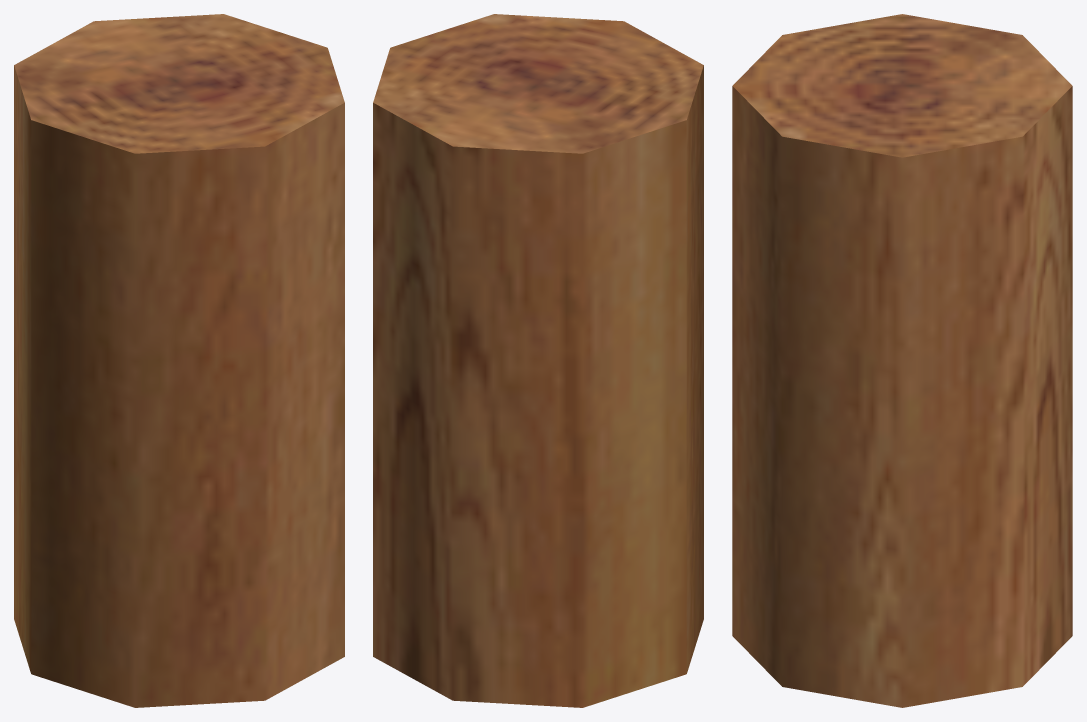
3 views of the same model, side by side, from view 1: azimuth 30°, elevation 25°; view 2: azimuth 150°, elevation 25°; view 3: azimuth 270°, elevation 25° (orthographic).
Visible parts, largest first — view 1: Joint_0_Object_0; view 2: Joint_0_Object_0; view 3: Joint_0_Object_0.
Boxes of the visible parts, x1,y1,x2,y2 form: Joint_0_Object_0: [14, 14, 344, 707]; Joint_0_Object_0: [373, 14, 703, 707]; Joint_0_Object_0: [732, 14, 1072, 707].
Size of the model in its own units: 140 by 250 by 140.
1 material, 1 textured.
